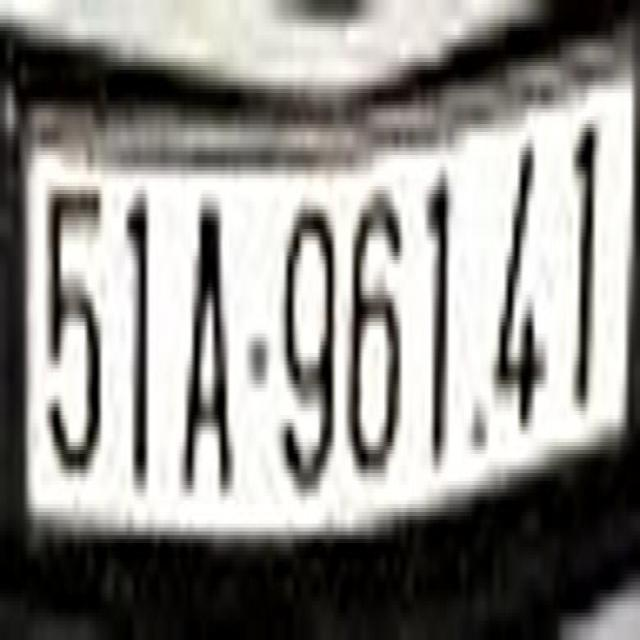1: (422, 162, 450, 462), (124, 182, 150, 466), (568, 112, 592, 396)
4: (496, 140, 545, 446)
5: (45, 174, 105, 473)
6: (356, 182, 397, 466)
9: (284, 205, 332, 492)
A: (184, 198, 230, 478)
